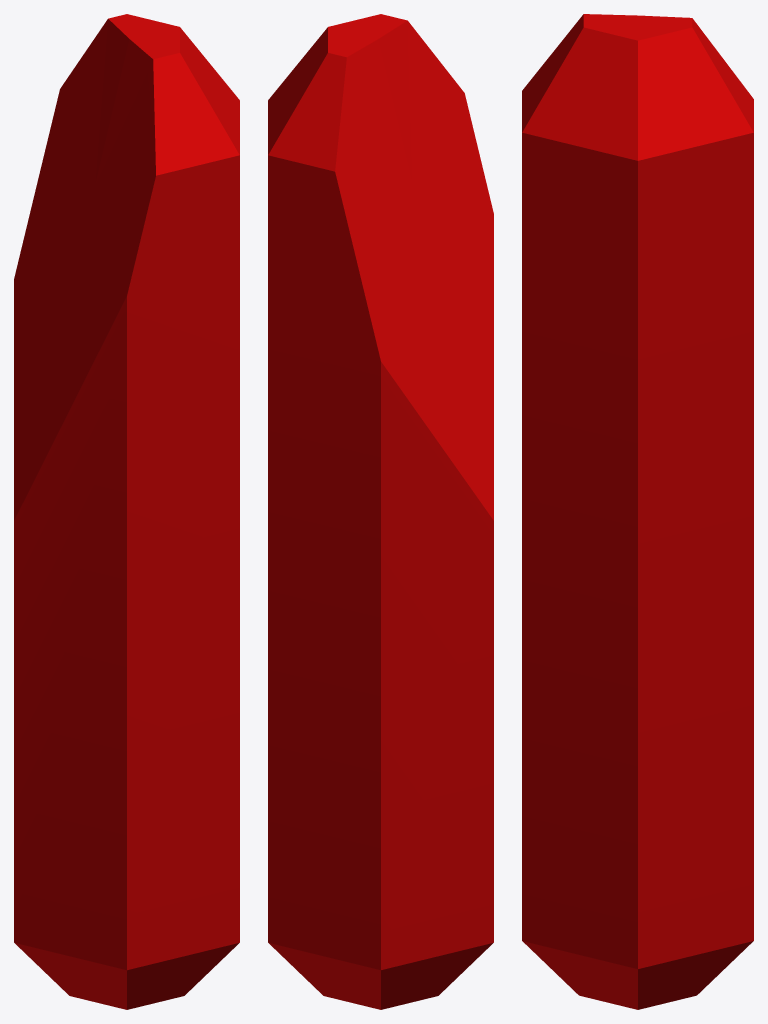
The model's file is geology-crystals-coloredcrystal_v2.fbx.
3 views of the same model, side by side, from view 1: azimuth 30°, elevation 25°; view 2: azimuth 150°, elevation 25°; view 3: azimuth 270°, elevation 25° (orthographic). The views are drawn at different scales.
Parts seen in each view (by area): view 1: ColoredCrystal_v2; view 2: ColoredCrystal_v2; view 3: ColoredCrystal_v2.
Part boxes in pixels (<box>): ColoredCrystal_v2: <box>14,14,239,1009</box>; ColoredCrystal_v2: <box>268,14,493,1009</box>; ColoredCrystal_v2: <box>522,14,753,1009</box>.
Bounding box in the file's own units: 1.5 × 5.97 × 1.3.
